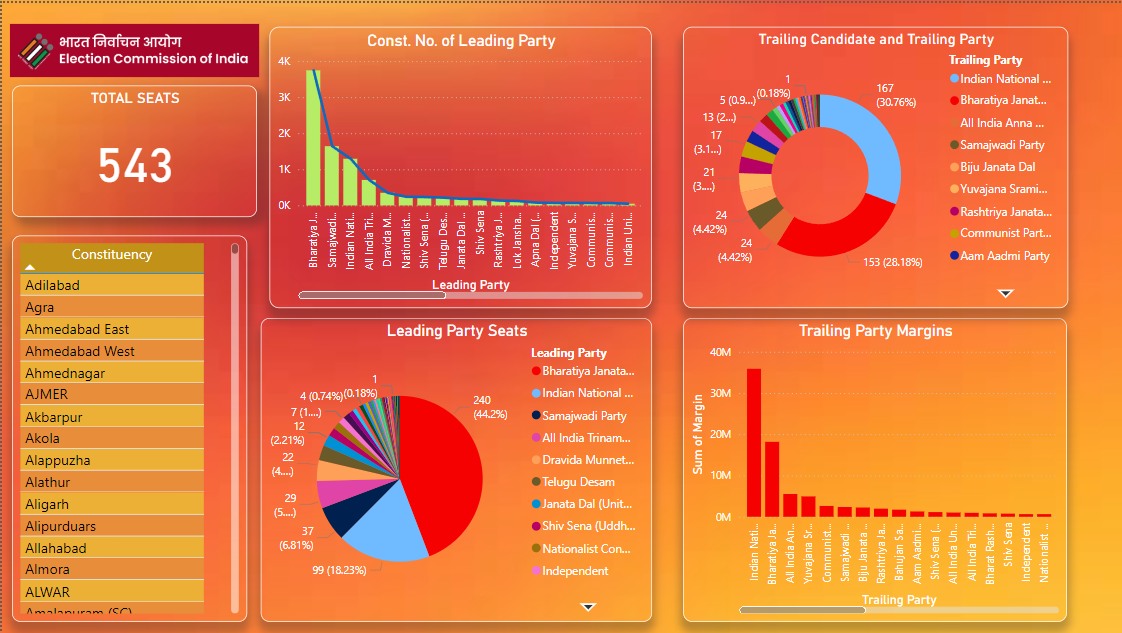

The dashboard page shown, as its layout file describes it:
{"tool":"powerbi","page":{"name":"Page 1","canvas":[1280,720],"ordinal":0},"visuals":[{"type":"image","box":[4.3,14.3,294.3,80],"z":0},{"type":"card","title":"TOTAL SEATS","fields":{"Values":["election_results_2024.CountMeasure"]},"box":[11.4,94.3,280,150],"z":1000},{"type":"tableEx","fields":{"Values":["election_results_2024.Constituency"]},"box":[11.4,265.7,268.6,441.4],"z":2000},{"type":"pieChart","title":"Leading Party Seats","fields":{"Category":["election_results_2024.Leading Party"],"Y":["CountNonNull(election_results_2024.Leading Candidate)"]},"box":[295.7,360,447.1,347.1],"z":3000},{"type":"clusteredColumnChart","title":"Trailing Party Margins","fields":{"Category":["election_results_2024.Trailing Party"],"Y":["Sum(election_results_2024.Margin)"]},"box":[778.6,360,438.6,347.1],"z":4000},{"type":"lineStackedColumnComboChart","title":"Const. No. of Leading Party","fields":{"Category":["election_results_2024.Leading Party"],"Y":["Sum(election_results_2024.Const. No.)"],"Y2":["Sum(election_results_2024.Const. No.)"]},"box":[305.7,27.1,437.1,321.4],"z":5000},{"type":"donutChart","title":"Trailing Candidate and Trailing Party","fields":{"Category":["election_results_2024.Trailing Party"],"Y":["CountNonNull(election_results_2024.Trailing Candidate)"]},"box":[778.6,27.1,440,321.4],"z":6000}]}

Visuals, with their boxes in screenshot pixels (x1, y1, x2, y2), scaled from the page's 1280x720 canvas onto the 1122x633 screenshot:
image: BBox(4, 13, 262, 83)
"TOTAL SEATS" card: BBox(10, 83, 255, 215)
tableEx - election_results_2024.Constituency: BBox(10, 234, 245, 622)
"Leading Party Seats" pieChart: BBox(259, 316, 651, 622)
"Trailing Party Margins" clusteredColumnChart: BBox(682, 316, 1067, 622)
"Const. No. of Leading Party" lineStackedColumnComboChart: BBox(268, 24, 651, 306)
"Trailing Candidate and Trailing Party" donutChart: BBox(682, 24, 1068, 306)
